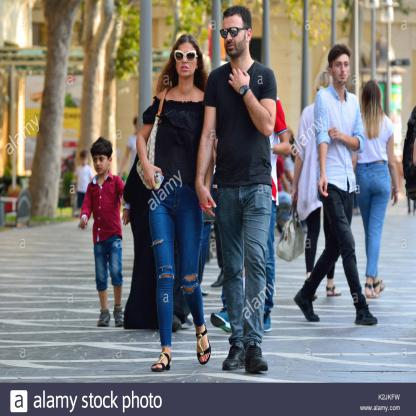person: (203, 4, 278, 374), (144, 34, 212, 366), (310, 44, 368, 322), (356, 77, 398, 298), (86, 135, 125, 327)
